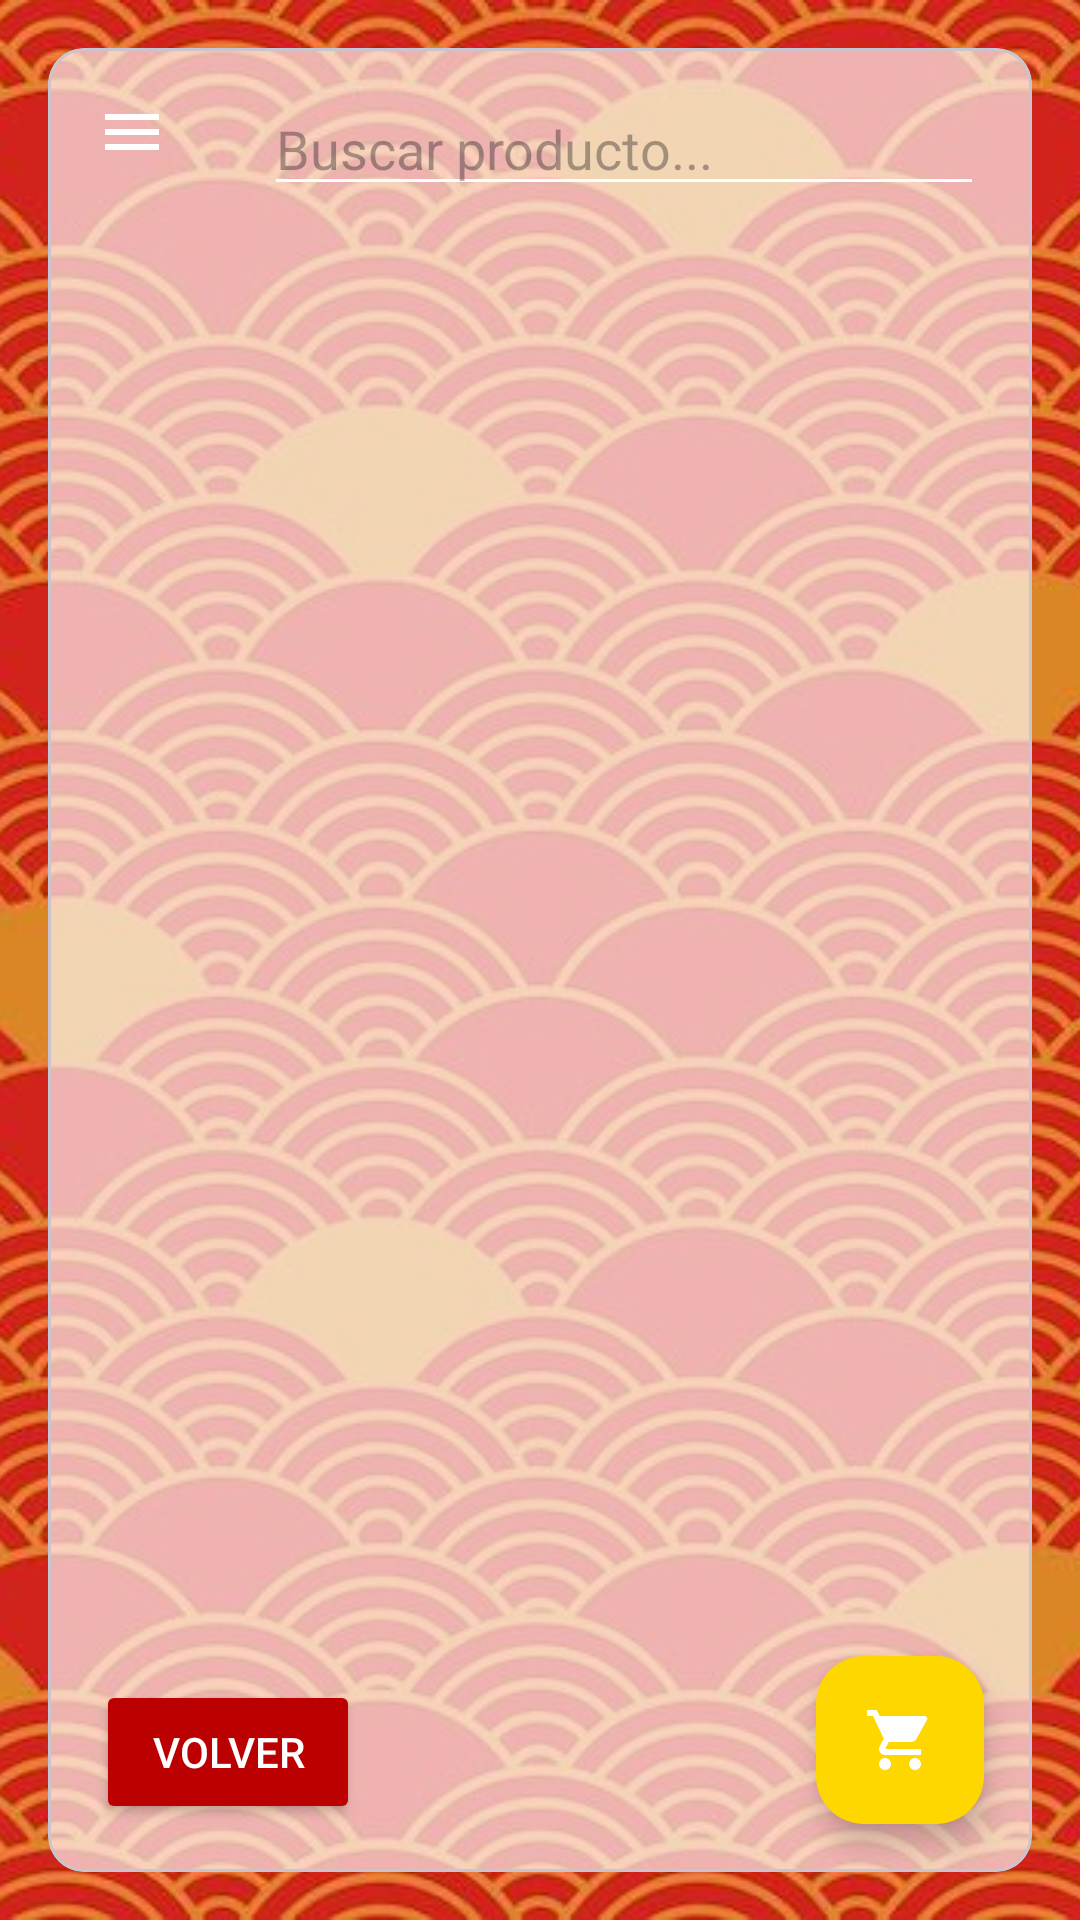

Where to tap for icons on this 1080px×1920px app screen, as (x,y):
shopping cart: (900,1740)
